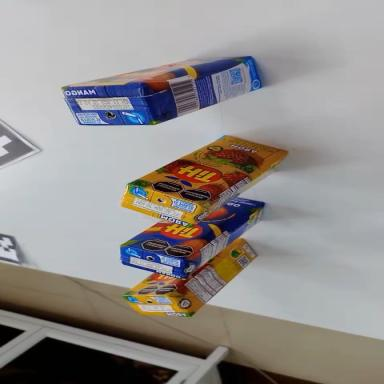HIT-MANGO: (62, 46, 266, 141), (114, 190, 279, 294)
HIT-MORA: (114, 115, 298, 250), (120, 232, 268, 338)
cara_F: (128, 103, 288, 232), (121, 163, 264, 284), (63, 42, 251, 102), (122, 272, 188, 297)
